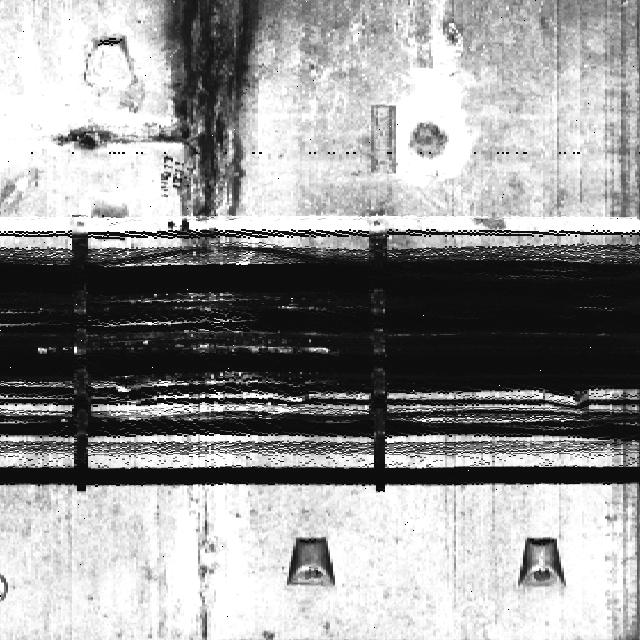leakage: (152, 0, 278, 254)
